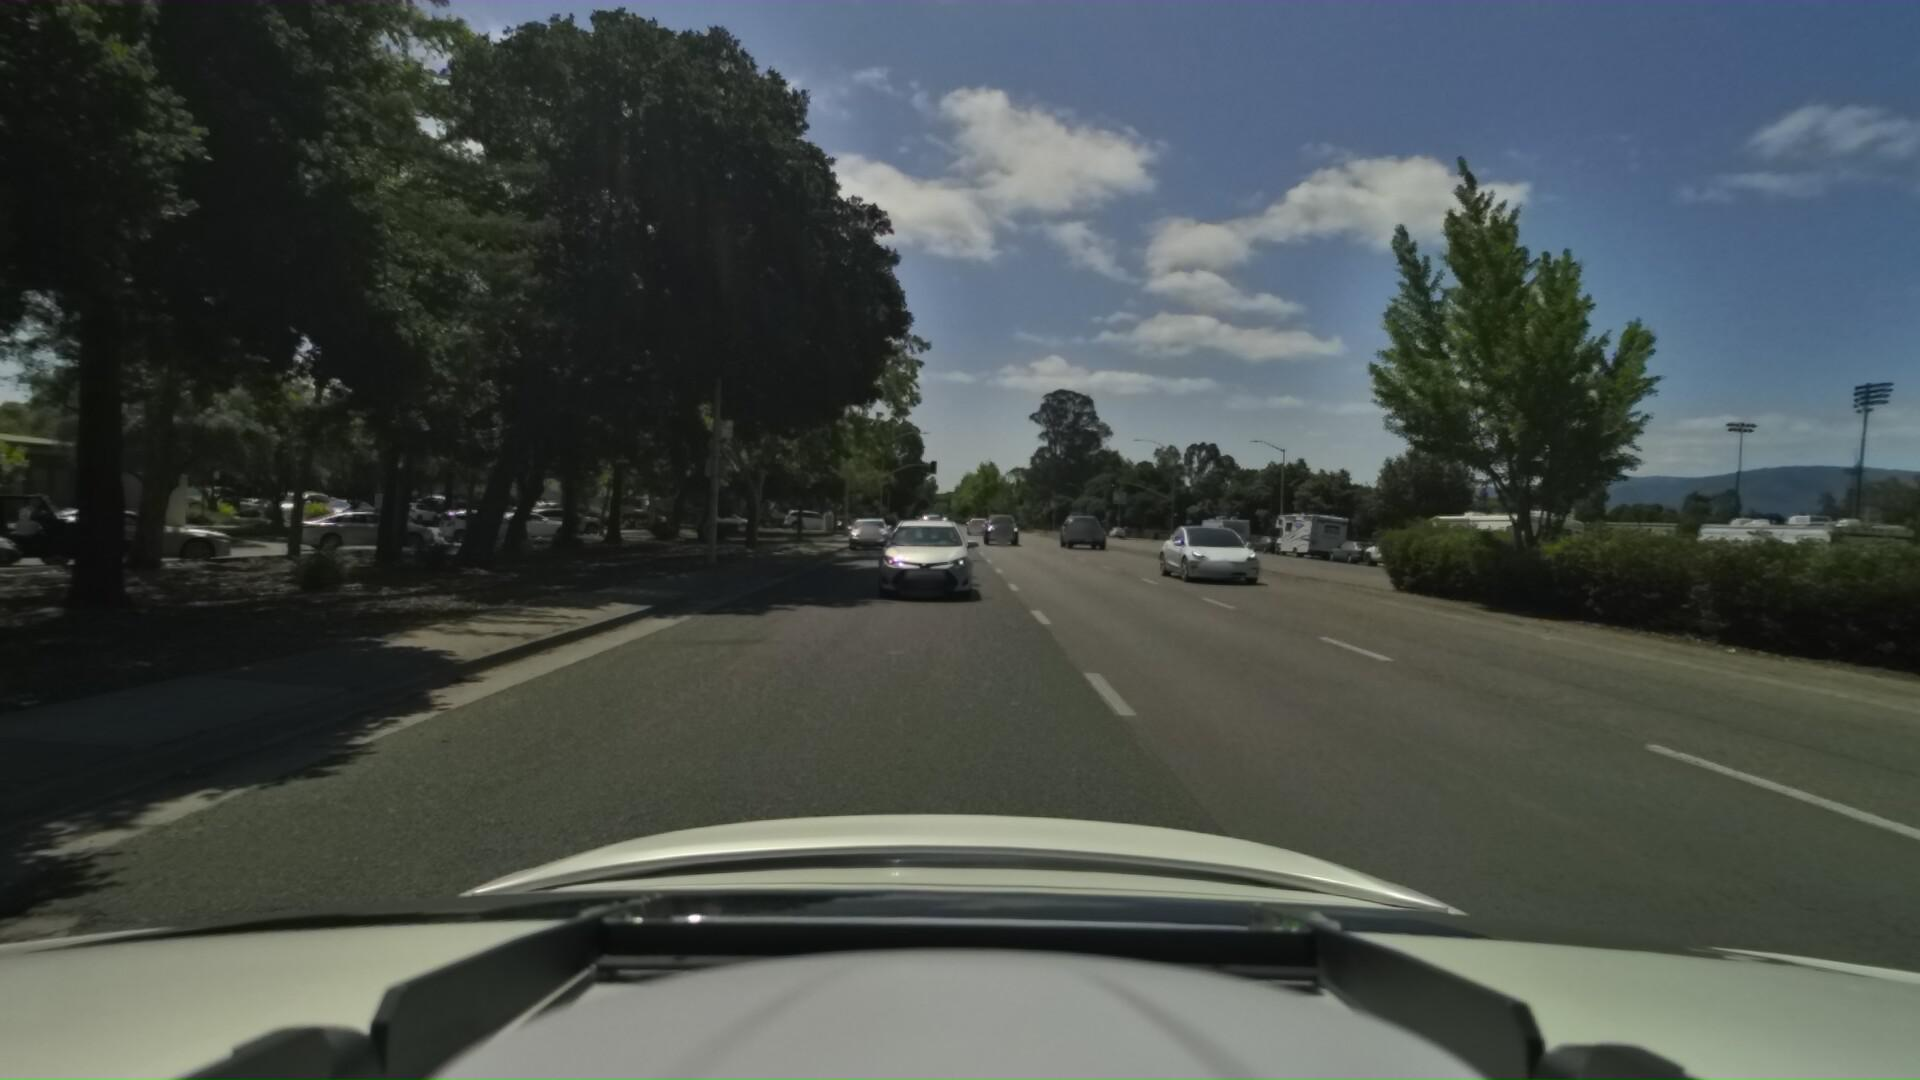car: (872, 510, 977, 603), (1139, 514, 1247, 582), (1352, 527, 1433, 567), (1054, 509, 1102, 547), (1319, 531, 1379, 560), (849, 512, 893, 549), (980, 508, 1019, 541), (1246, 527, 1288, 550), (965, 512, 990, 531)
other_vehicle: (1639, 506, 1905, 622), (1404, 498, 1578, 585), (1265, 504, 1349, 558)
